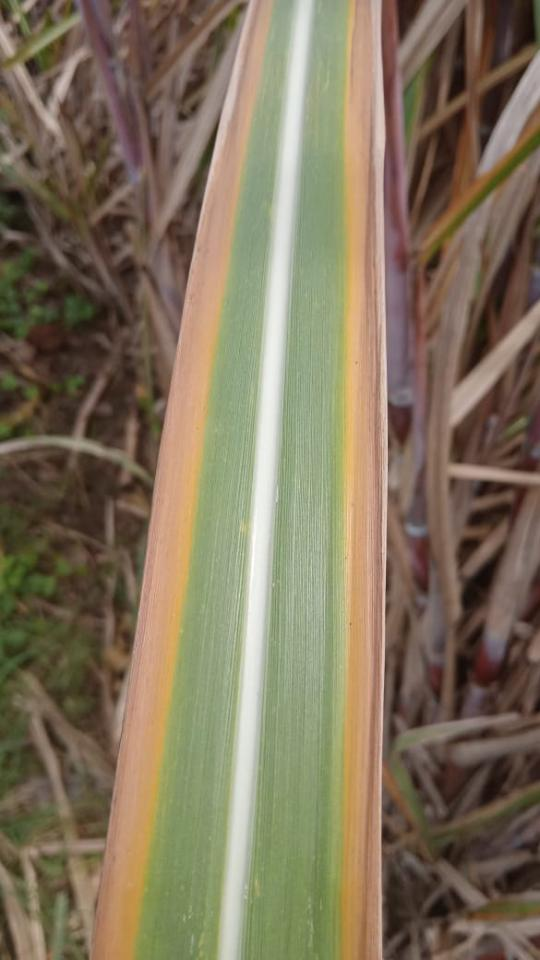Yellow: (90, 0, 277, 959), (336, 0, 375, 959)
